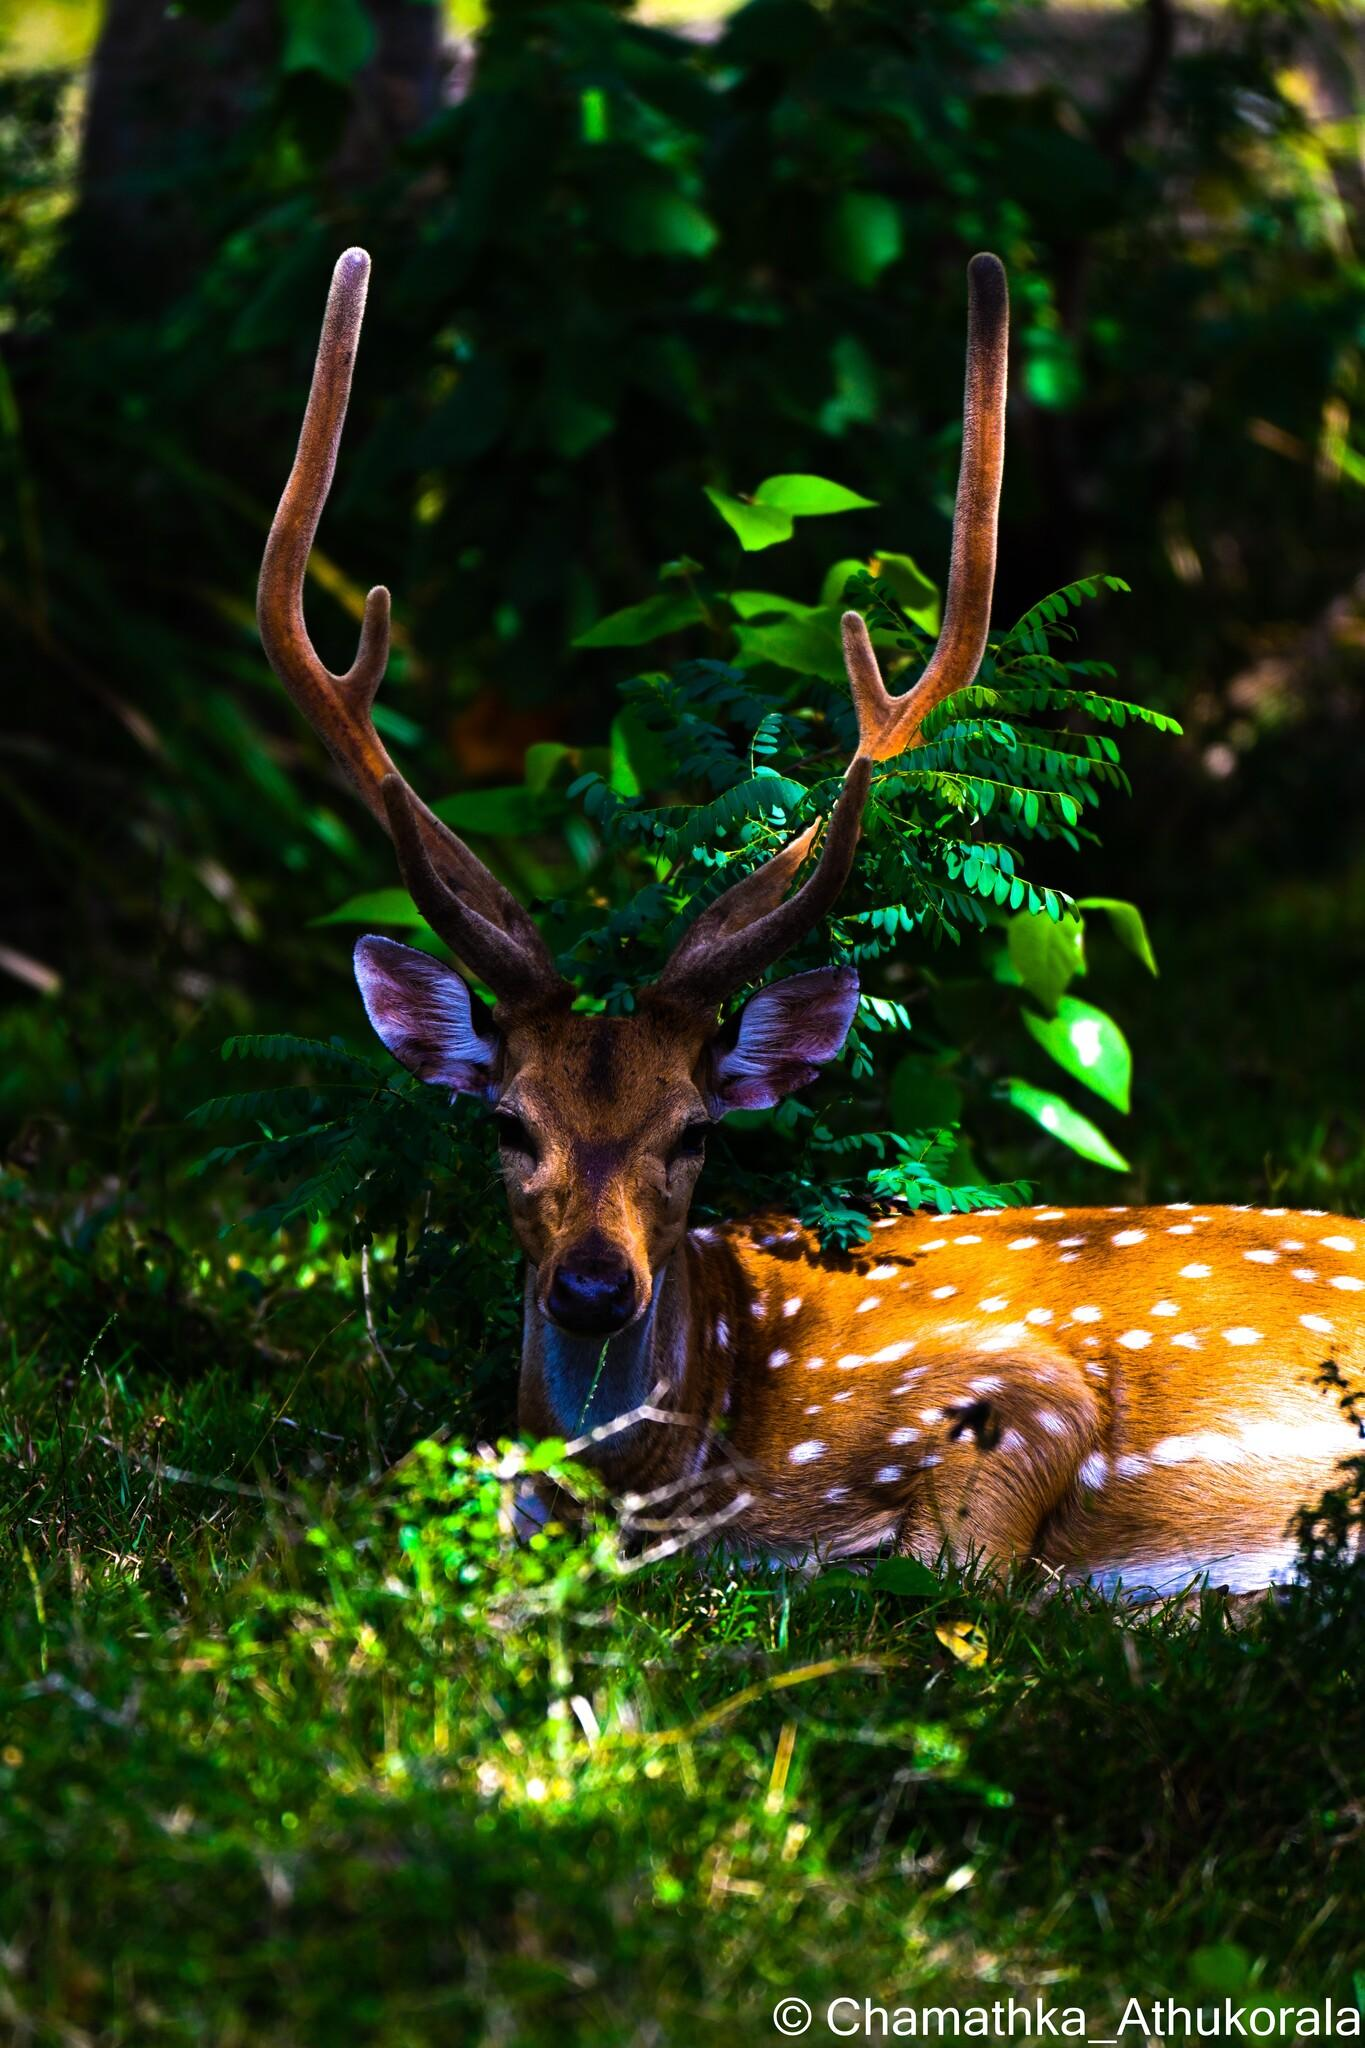Deer: (257, 250, 1363, 1590)
